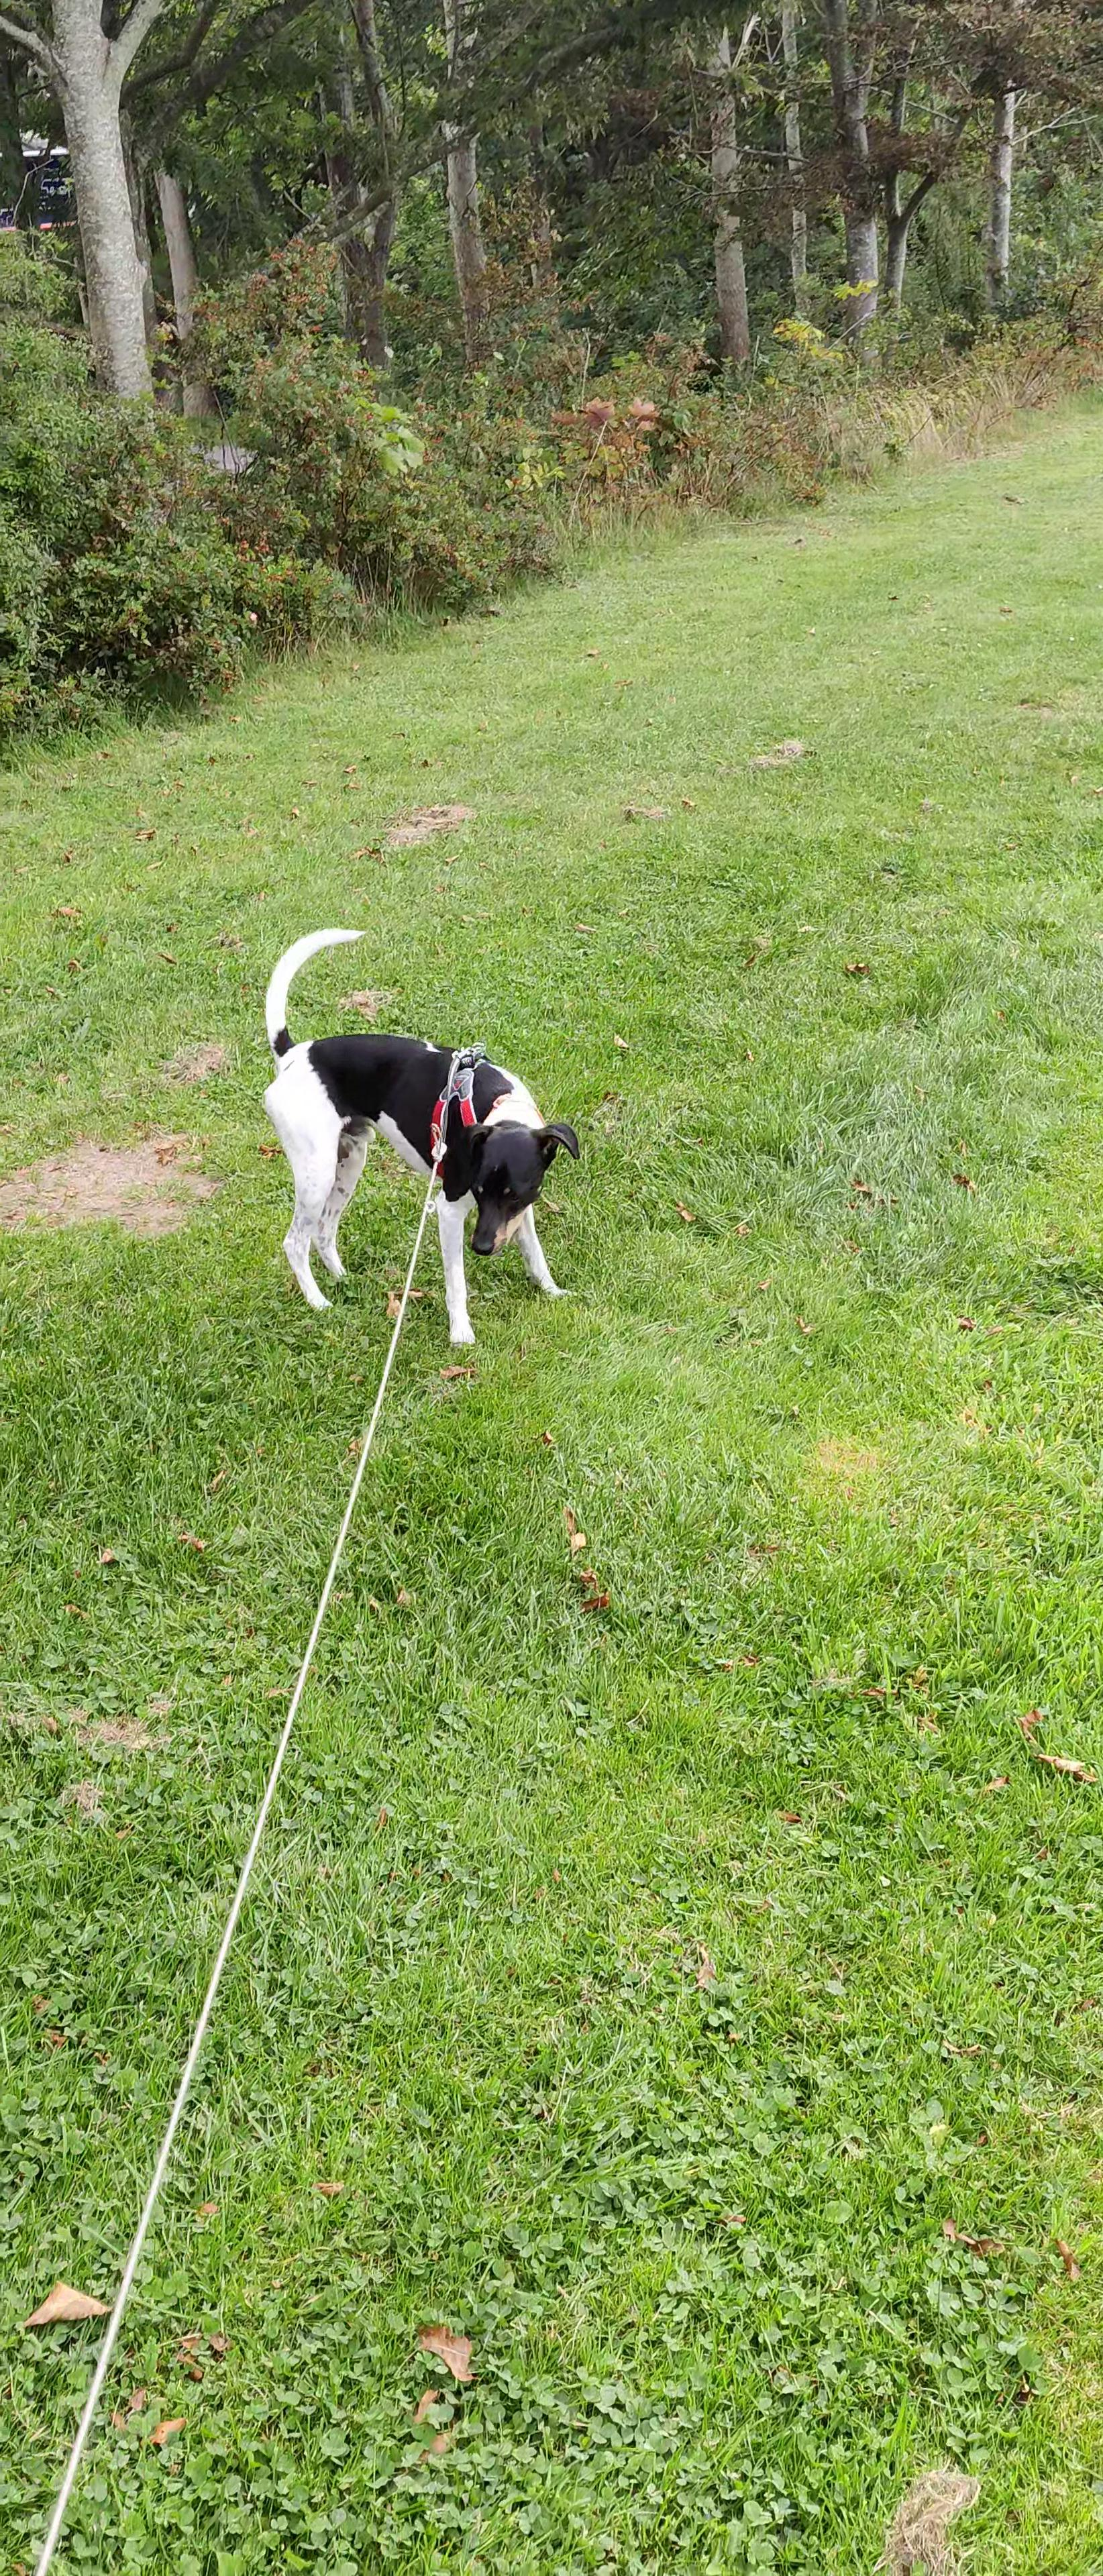Dog: (256, 920, 585, 1350)
